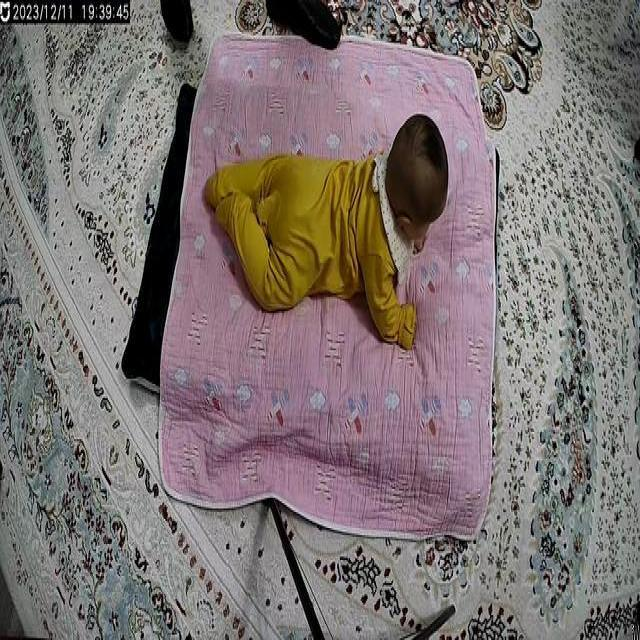baby: (201, 110, 452, 360)
